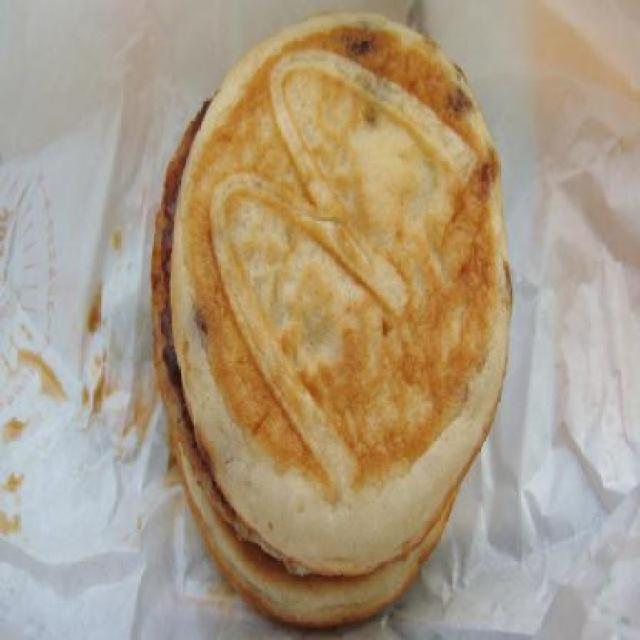Pancake: (170, 11, 512, 567)
